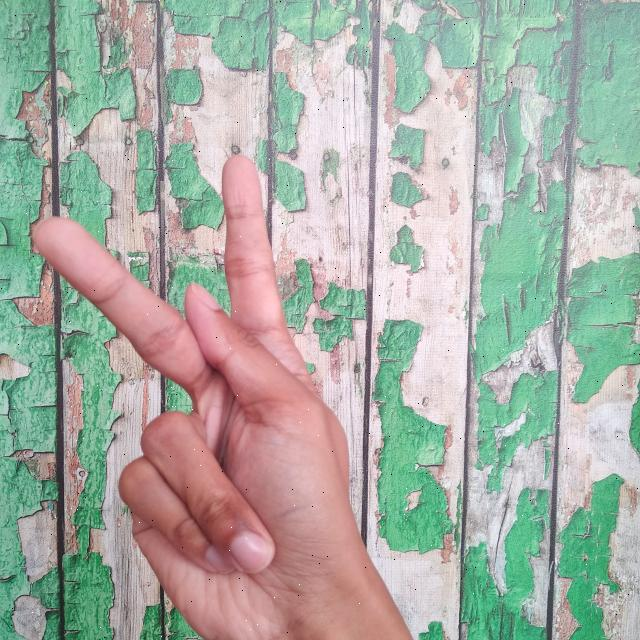K: (28, 146, 418, 640)
